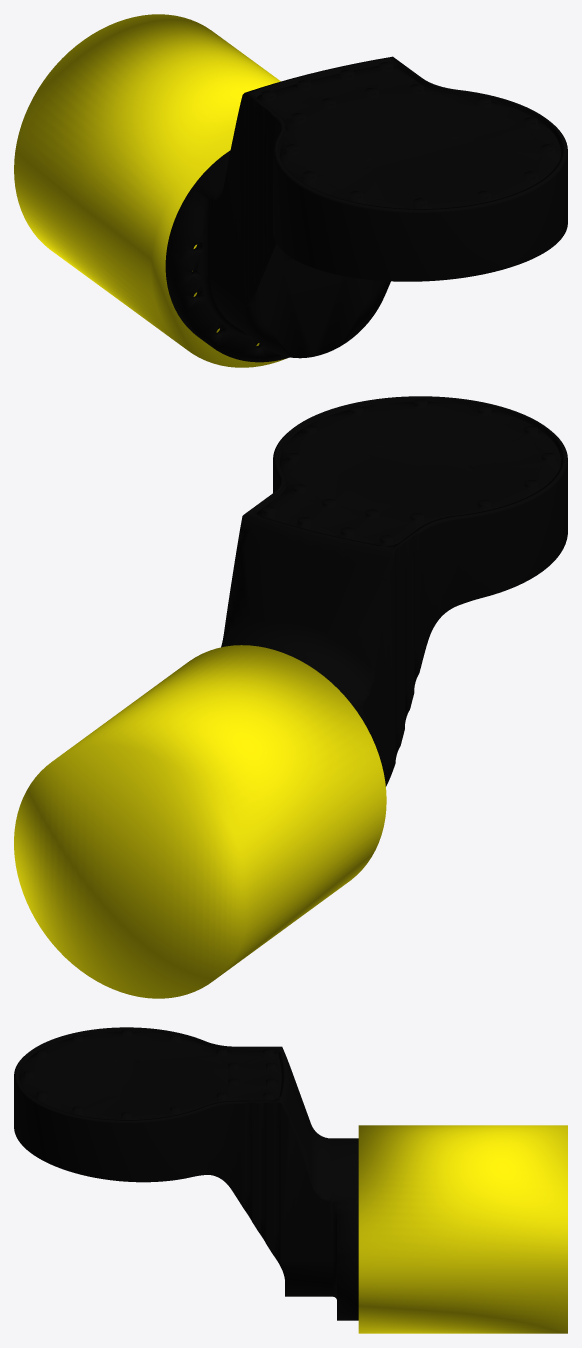
3 views of the same model, one above another, from view 1: azimuth 30°, elevation 25°; view 2: azimuth 150°, elevation 25°; view 3: azimuth 270°, elevation 25° (orthographic). The views are drawn at different scales.
Visible parts, largest first — view 1: transform1; view 2: transform1; view 3: transform1.
Part boxes in pixels (x1,y1,x2,y2): transform1: (14, 14, 567, 367); transform1: (14, 396, 567, 998); transform1: (14, 1027, 567, 1333).
Size of the model in its own units: 10.4 by 12.77 by 25.55.
1 material, 1 textured.
